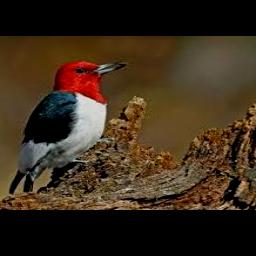Woodpecker: (8, 60, 126, 195)
